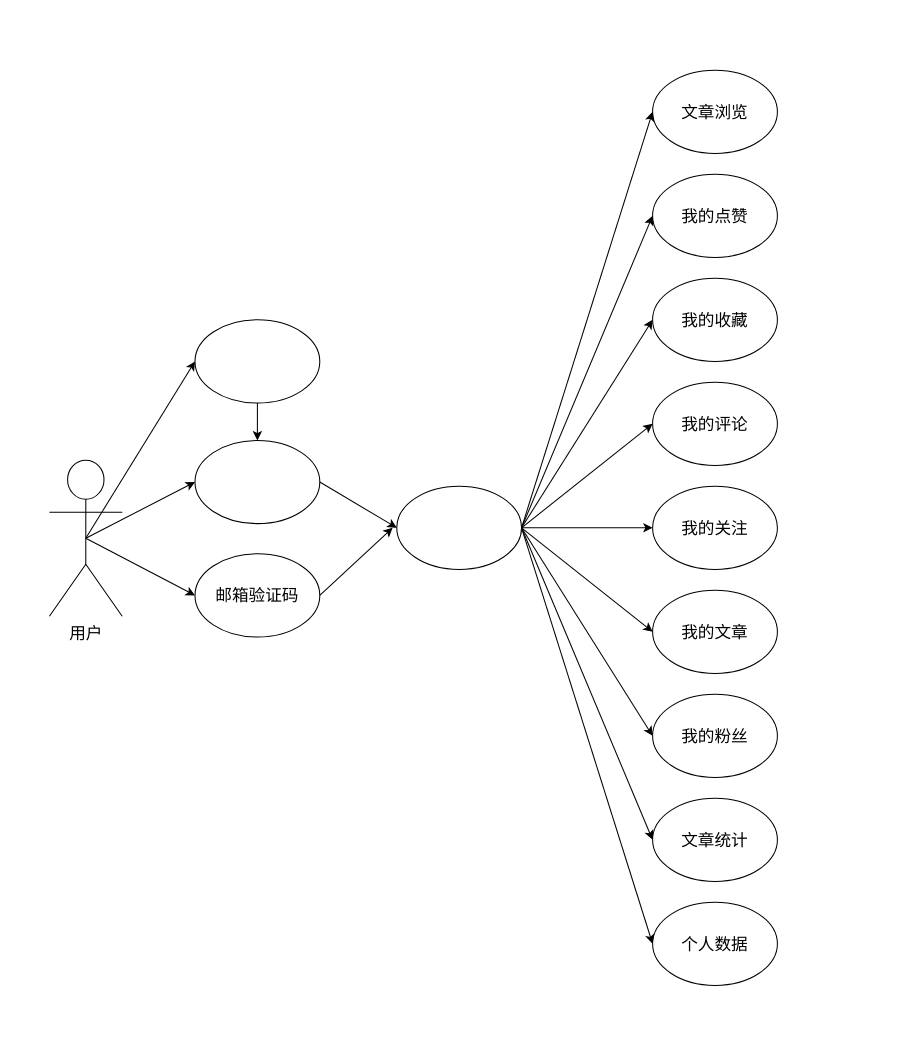
Image size: 899x1044. Some labels were removed from this diagram. Here are the shapes that lost their labels. From the top down, the box of each, then its label:
(194, 319, 320, 403): 注册
(194, 439, 320, 524): 用户名密码
(396, 485, 522, 569): 登录
